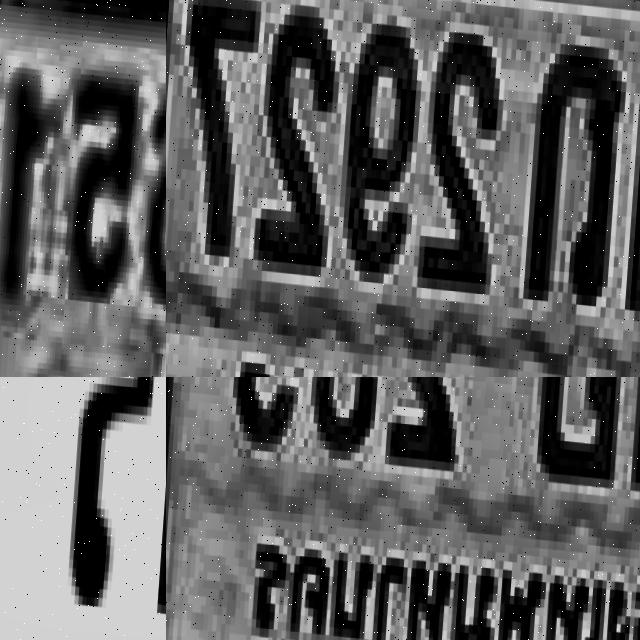license-plate: (166, 0, 640, 377), (166, 377, 640, 640), (0, 0, 166, 377), (0, 377, 166, 640)
